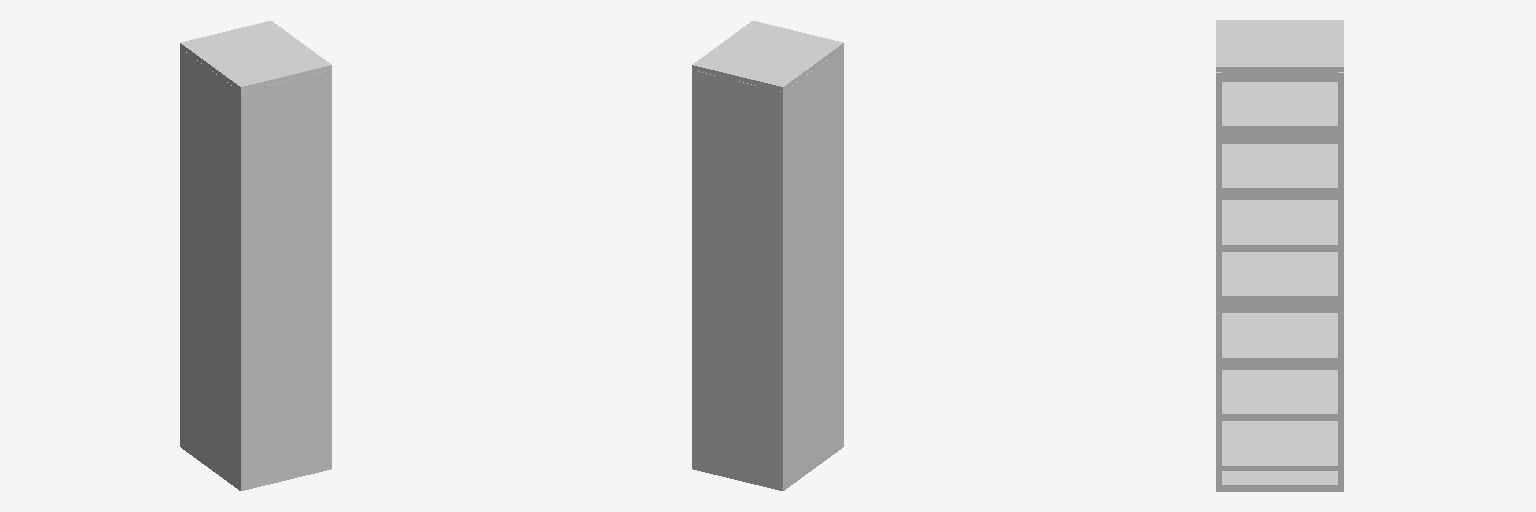
URDF robot description (room602-tableware-shelf3):
<?xml version="1.0"?>
<robot name="room602-tableware-shelf3"
       xmlns:xi="http://www.w3.org/2001/XInclude">
  <gazebo>
    <static>false</static>
  </gazebo>
  <link name="nil_link">
    <visual>
      <origin xyz="0 0 0" rpy="0 -0 0"/>
      <geometry>
        <mesh filename="model://room602-tableware-shelf3/meshes/nil_link_mesh.dae" scale="1 1 1" />
      </geometry>
    </visual>
    <collision>
      <origin xyz="0 0 0" rpy="0 -0 0"/>
      <geometry>
        <mesh filename="model://room602-tableware-shelf3/meshes/nil_link_mesh.dae" scale="1 1 1" />
      </geometry>
    </collision>
    <inertial>
      <mass value="0.001" />
      <origin xyz="0 0 0" rpy="0 -0 0"/>
      <inertia ixx="1e-03" ixy="0" ixz="0" iyy="1e-03" iyz="0" izz="1e-03"/>
    </inertial>
  </link>
  <gazebo reference="nil_link">
    <mu1>0.9</mu1>
    <mu2>0.9</mu2>
  </gazebo>
</robot>

--- Render facts (derived) ---
Views: 3 orthographic renders of the robot side by side, from view 1: azimuth 30°, elevation 25°; view 2: azimuth 150°, elevation 25°; view 3: azimuth 270°, elevation 25°.
Robot: room602-tableware-shelf3 — 1 links, 0 joints (none); root link nil_link; default pose: every joint at zero.
Visible links, largest first — view 1: nil_link; view 2: nil_link; view 3: nil_link.
Link boxes in pixels (x1,y1,x2,y2): nil_link: [180, 21, 331, 490]; nil_link: [692, 21, 843, 490]; nil_link: [1216, 20, 1343, 491].
Size in the robot's own frame: 0.39 by 0.45 by 1.65 metres.
1 mesh visuals loaded from 1 distinct referenced files (1 Collada DAE).